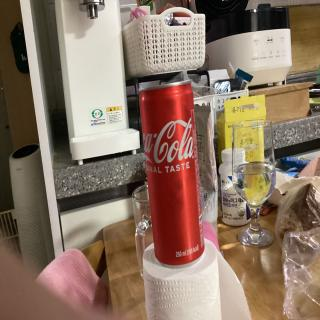cocacola: (134, 79, 213, 271)
